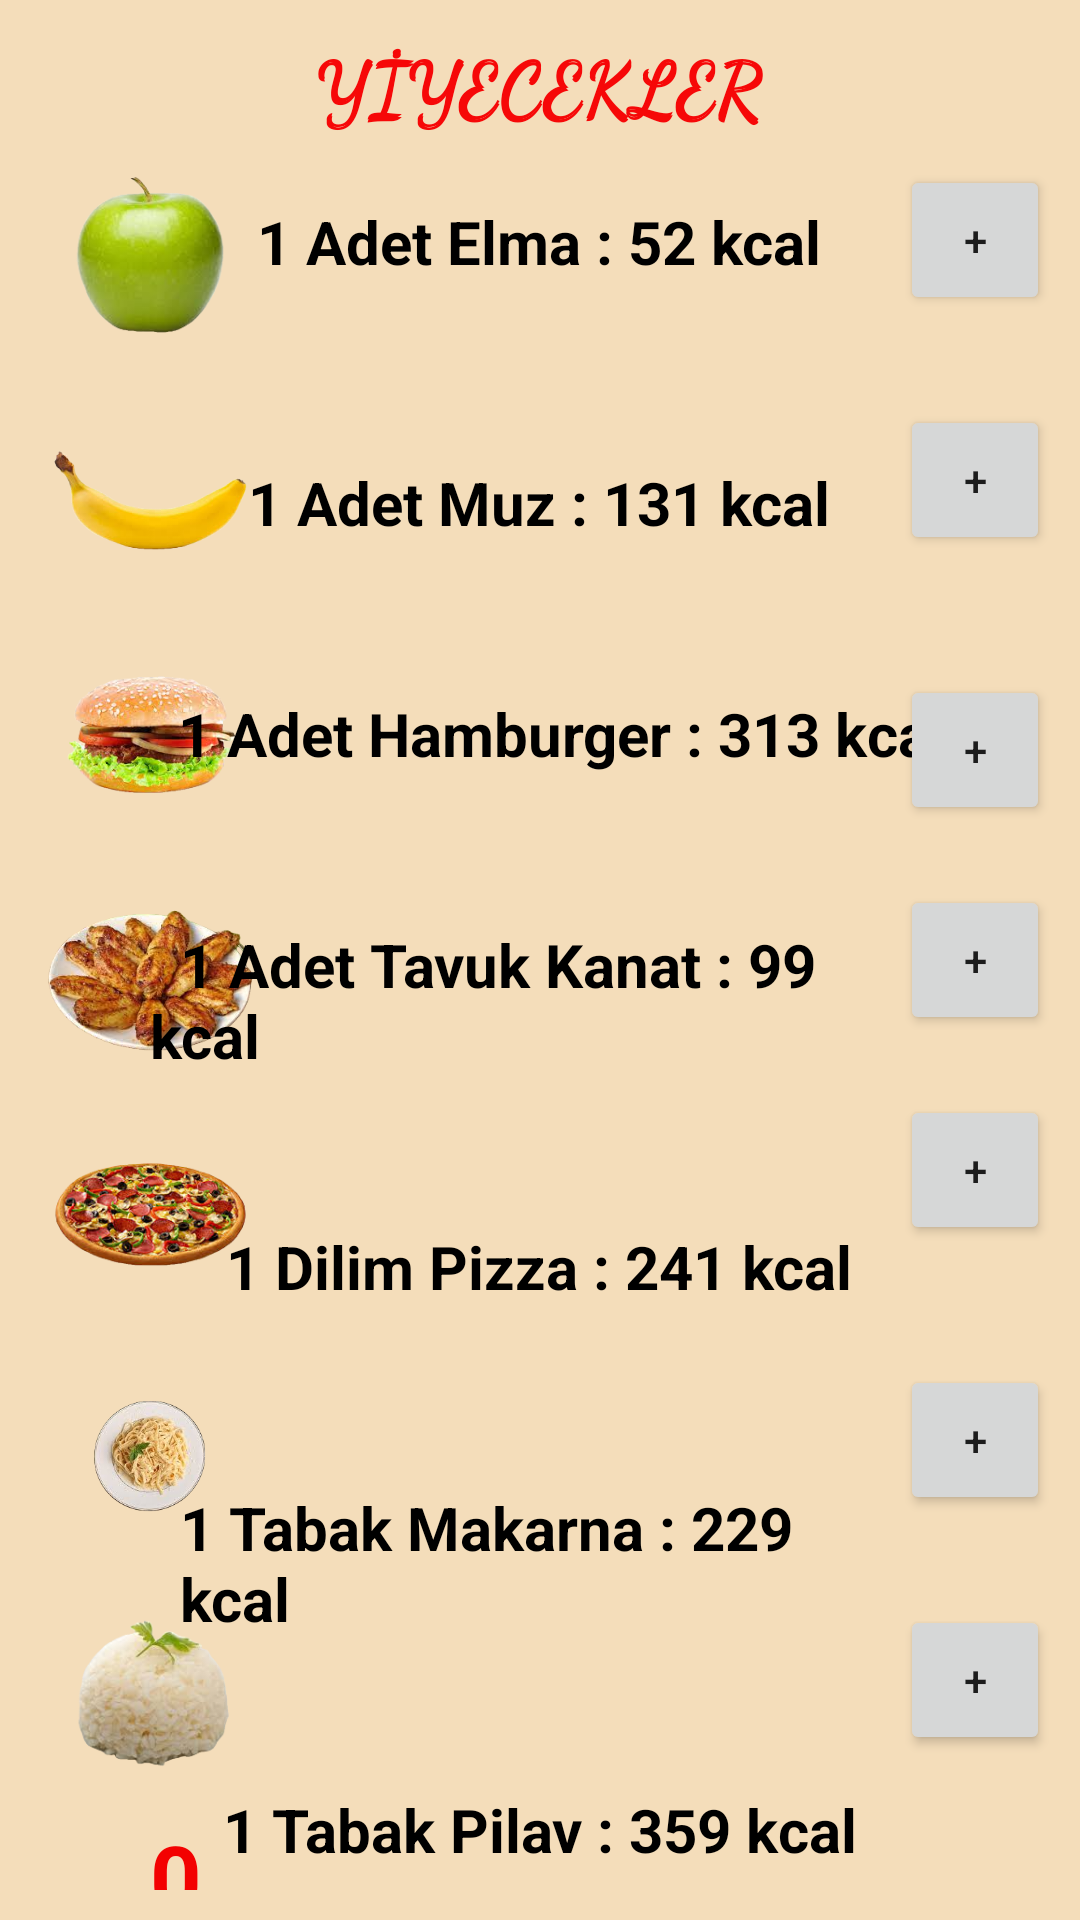

Icon bounding boxes for this 1080w x 1920h phone screenshot, format [x1, y1, x2, y2]:
apple: [77, 177, 223, 333]
banana: [54, 451, 246, 550]
pasta: [94, 1401, 205, 1551]
rice: [79, 1590, 241, 1766]
